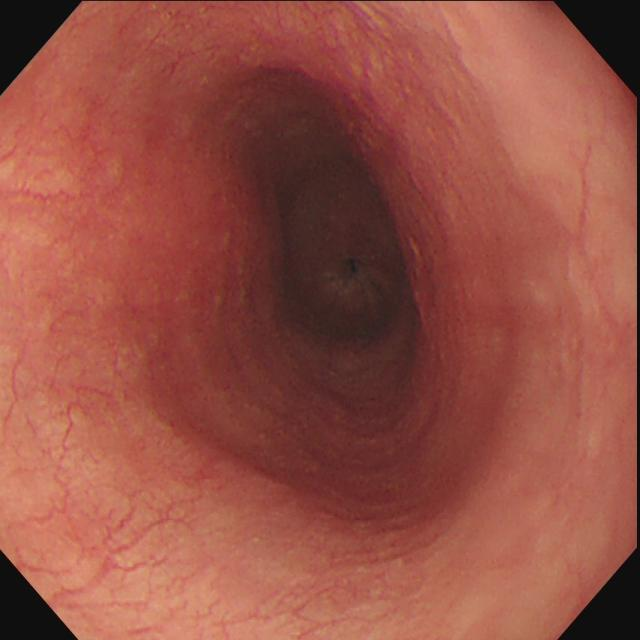E: (258, 162, 419, 360)
